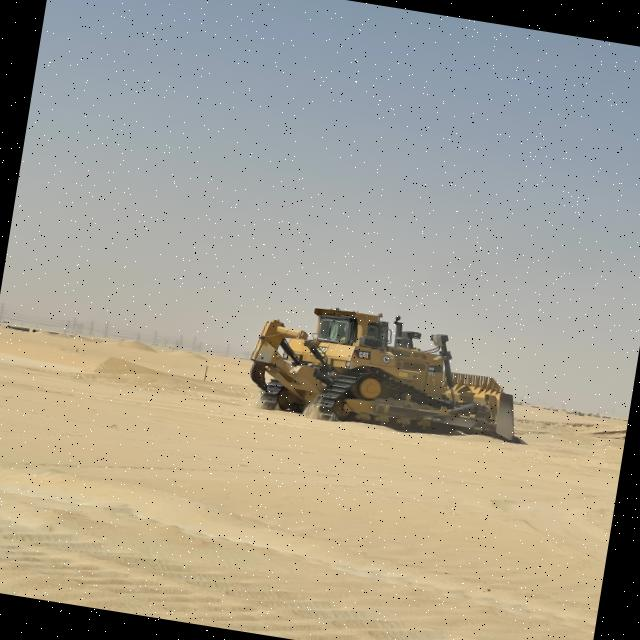Bulldozer: (238, 284, 535, 458)
